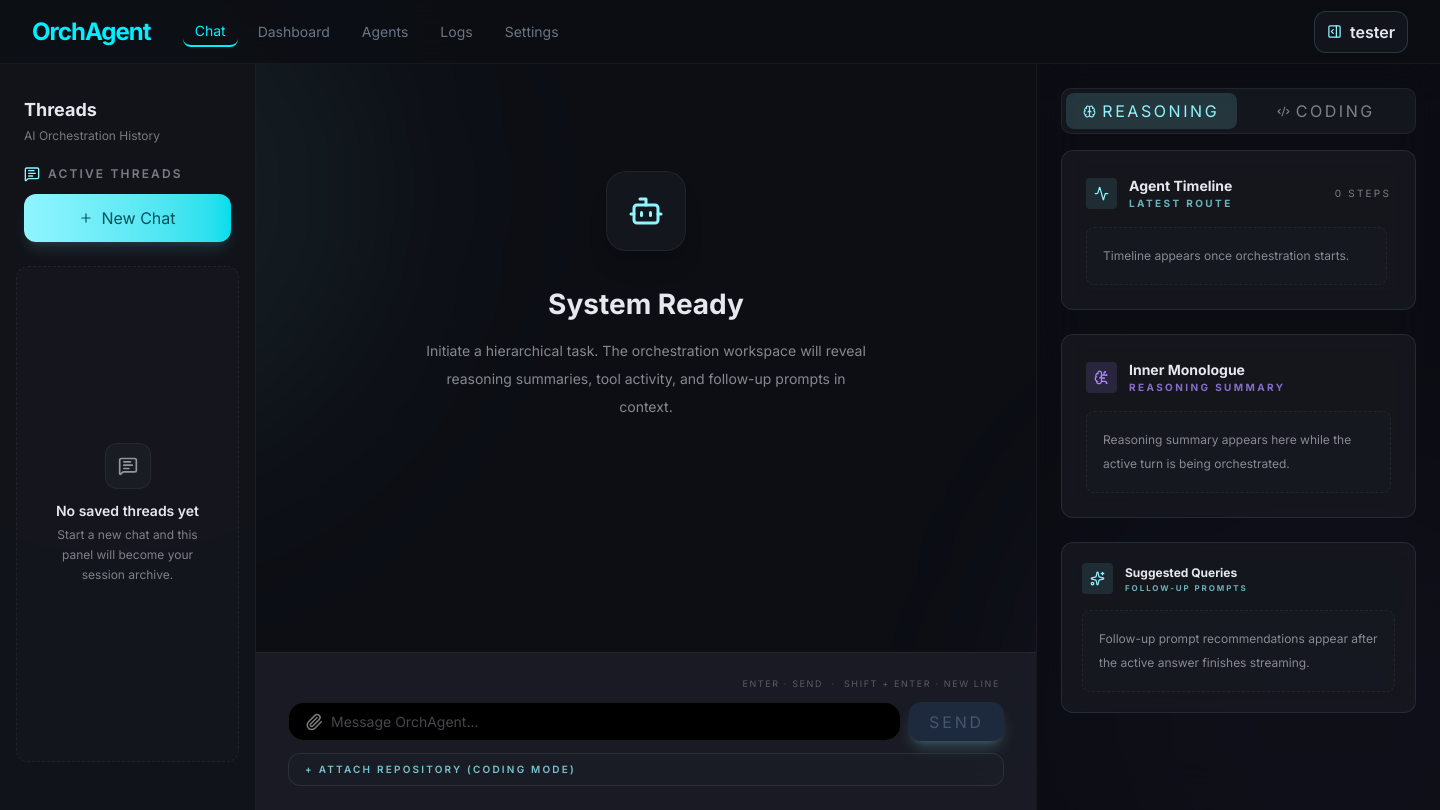
tool_start renders the fallback Inner Monologue summary when no reasoning chunk is streamed
Step 1. Type "Create a file named hi.txt in the workspace and write hi into it." into the text box with placeholder "Message OrchAgent..." → (612, 722), box [331,703,892,740]
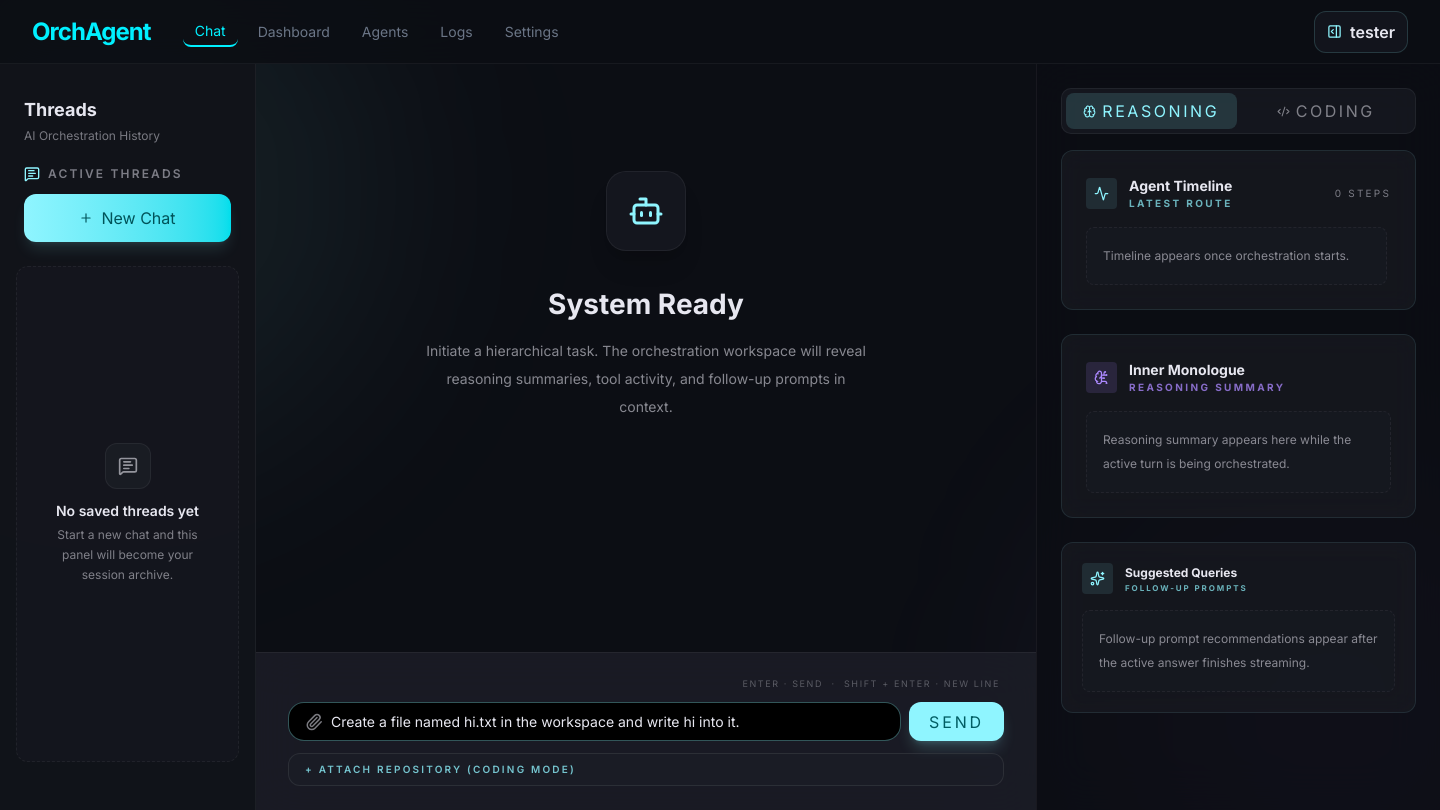
Step 2. Click the button with aria-label "send message" → (956, 722), box [909,702,1004,741]
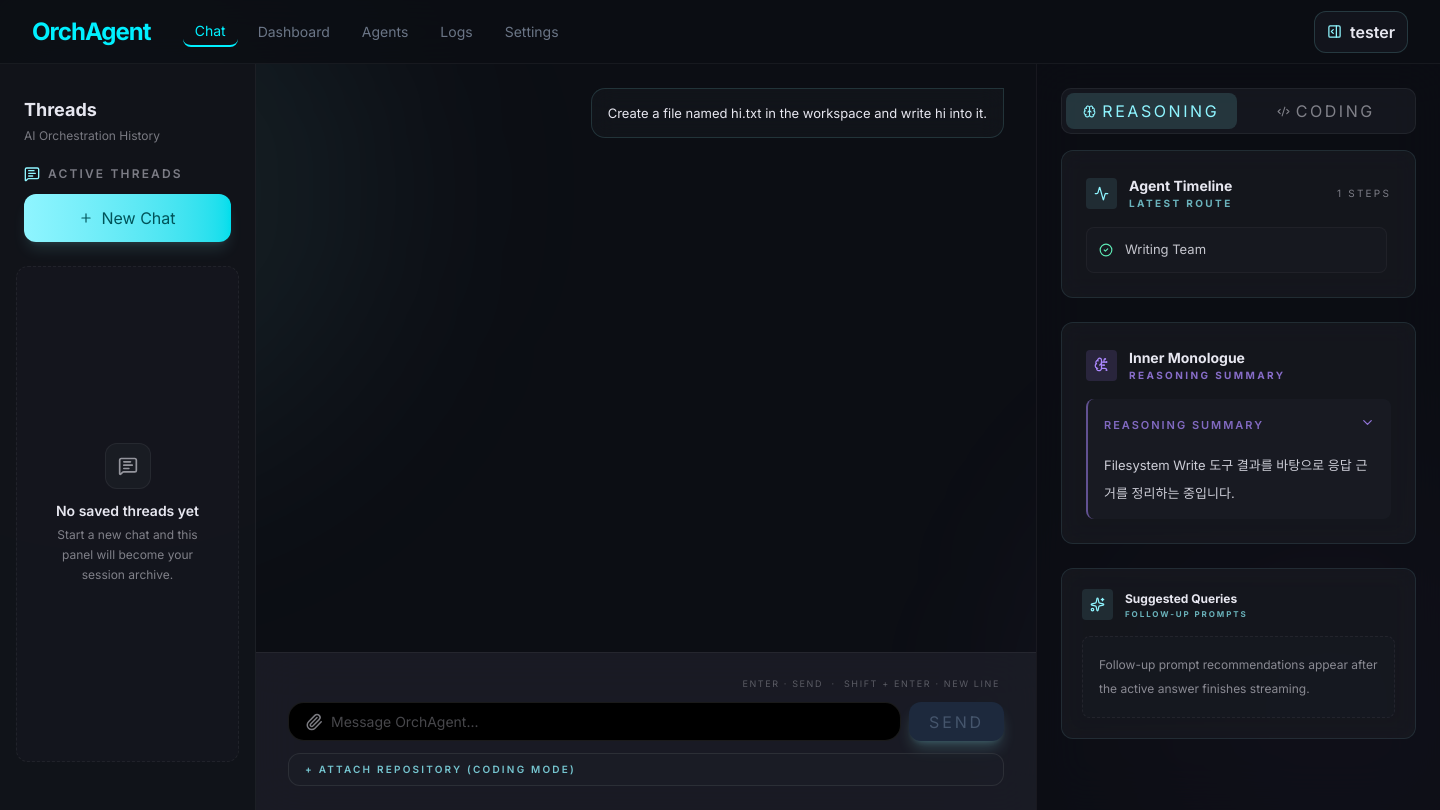
Now the text "Filesystem Write 도구 결과를 바탕으로 응답 근거를 정리하는 중입니다." is shown, box [1104,450,1375,506]
